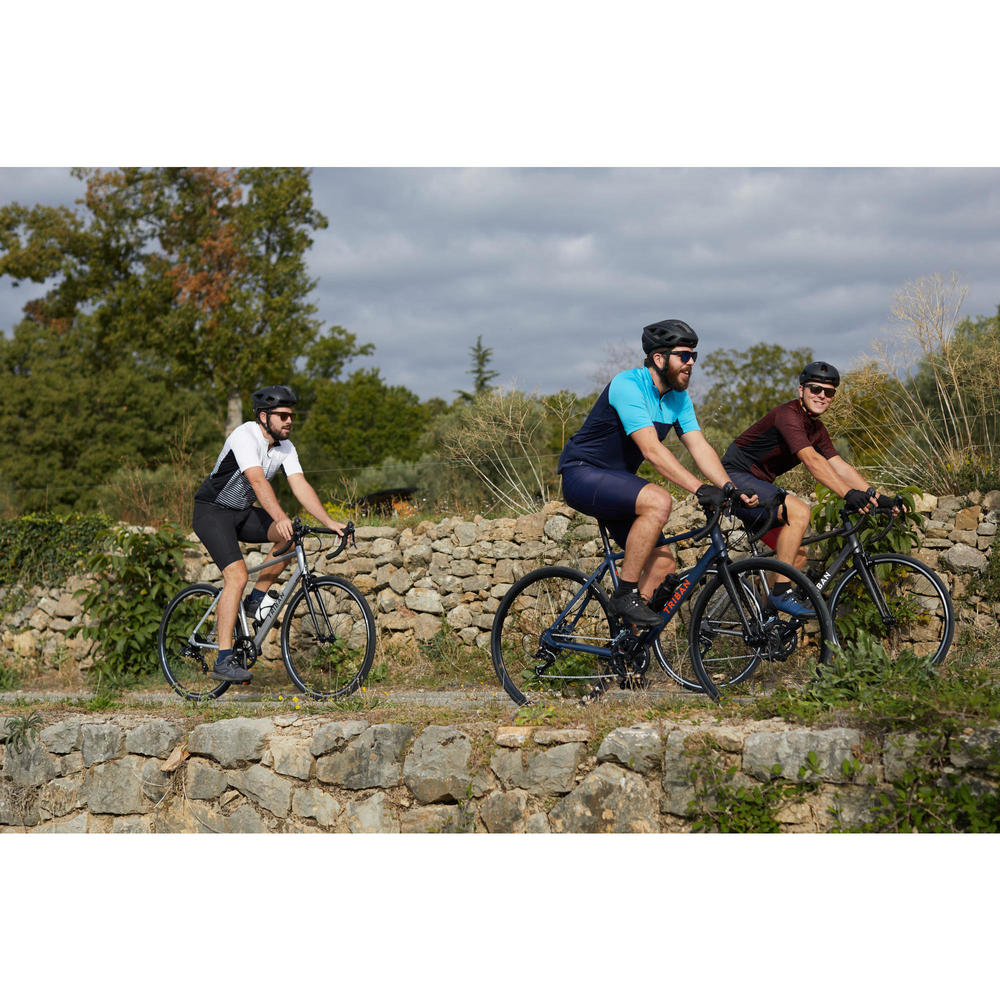RoadBike: (498, 481, 842, 707), (648, 491, 951, 688), (156, 509, 387, 715)
